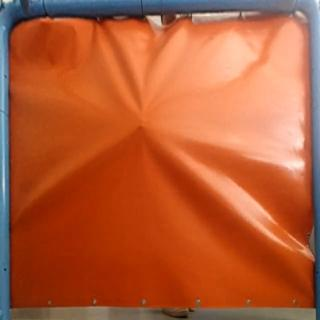Hit-hRxx: (136, 121, 148, 130)
